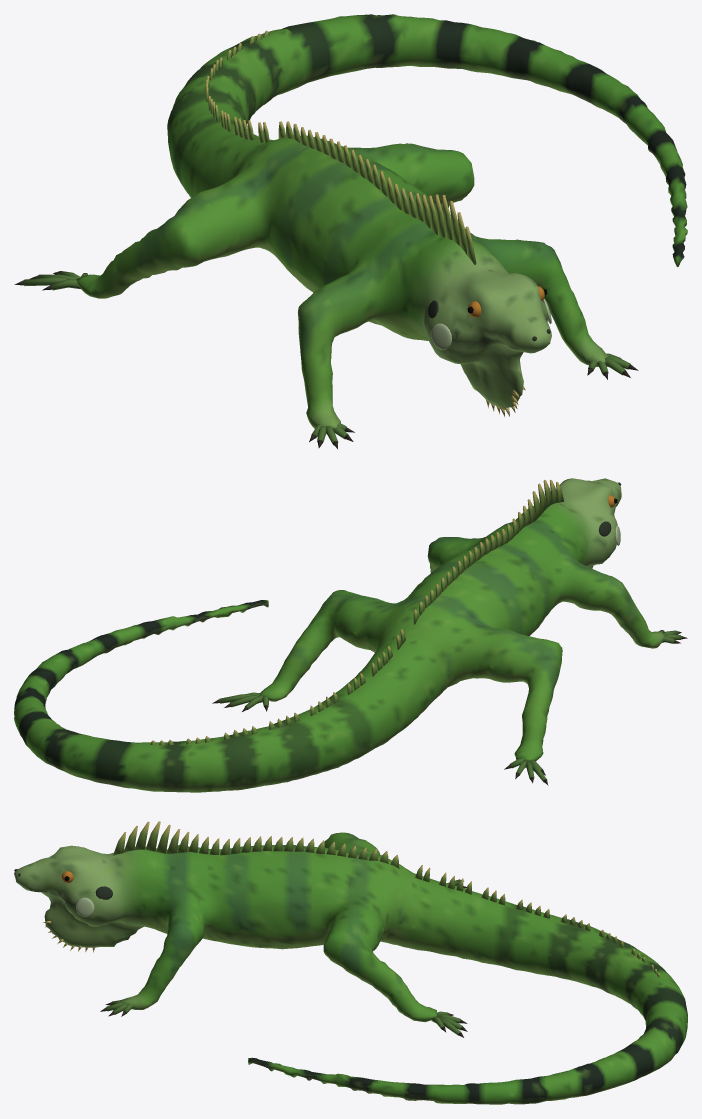
Rendered from GreenIguana.fbx.
3 renders of one model, top to bottom at view 1: azimuth 30°, elevation 25°; view 2: azimuth 150°, elevation 25°; view 3: azimuth 270°, elevation 25°, orthographic. The views are drawn at different scales.
Visible parts, largest first — view 1: GreenIguana; view 2: GreenIguana; view 3: GreenIguana.
Boxes of the visible parts, left/top/right/bottom form: GreenIguana: left=14, top=14, right=687, bottom=448; GreenIguana: left=14, top=478, right=687, bottom=792; GreenIguana: left=14, top=821, right=687, bottom=1104.
Bounding box in the file's own units: 0.7896 × 0.2248 × 0.984.
